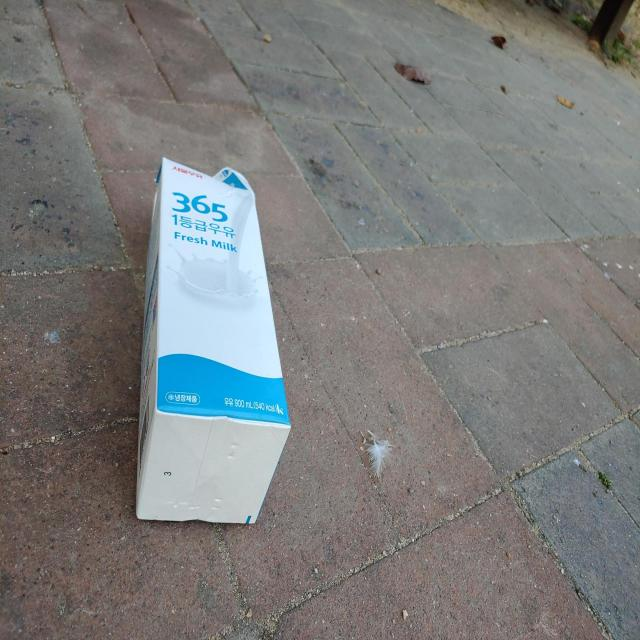paperpack: (136, 157, 290, 525)
